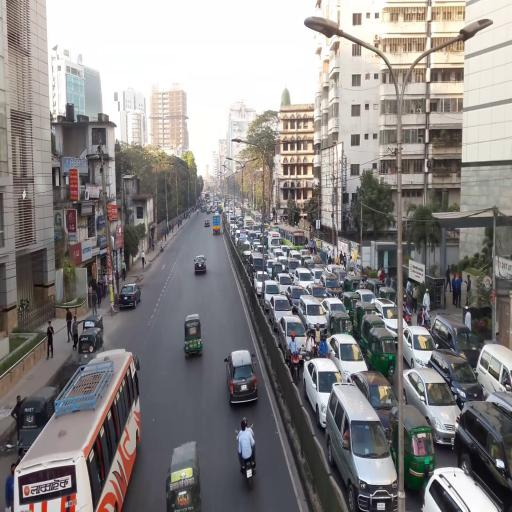bus: (49, 349, 142, 512), (278, 225, 307, 251), (252, 210, 263, 225)
car: (404, 368, 462, 447), (349, 370, 399, 438), (422, 467, 499, 511), (430, 348, 485, 408), (304, 359, 346, 432), (327, 333, 370, 383), (226, 349, 259, 407), (373, 298, 410, 343), (404, 326, 439, 371), (278, 315, 310, 363), (270, 294, 295, 331), (322, 297, 351, 320), (320, 273, 343, 300), (263, 281, 283, 312), (287, 286, 308, 314), (120, 284, 142, 307), (276, 273, 295, 296), (255, 272, 272, 296), (295, 269, 315, 288), (356, 289, 377, 303), (311, 255, 325, 272), (312, 269, 326, 284), (195, 256, 207, 273), (325, 265, 342, 276), (290, 250, 303, 264), (274, 248, 286, 262), (278, 257, 289, 272), (232, 226, 240, 239), (205, 218, 210, 229), (207, 208, 211, 214), (216, 211, 220, 215)
minivan: (326, 382, 399, 483), (477, 343, 512, 399), (299, 295, 328, 335), (242, 240, 252, 263)
motorbike: (236, 416, 256, 490), (286, 331, 303, 382), (304, 329, 316, 379), (315, 323, 323, 357), (320, 332, 330, 359)
pickup: (269, 232, 283, 250), (213, 215, 222, 236), (245, 216, 253, 229), (231, 215, 237, 224)
suv: (455, 403, 512, 505), (432, 313, 482, 369), (286, 258, 302, 278), (236, 230, 240, 248)
three wheelers (CNG): (389, 407, 436, 494), (165, 439, 204, 512), (19, 382, 60, 450), (368, 330, 397, 385), (362, 314, 386, 355), (79, 328, 104, 366), (355, 301, 378, 335), (185, 315, 203, 358), (328, 311, 354, 336), (343, 290, 361, 322), (366, 278, 385, 298), (344, 276, 363, 295), (84, 316, 106, 331), (379, 287, 398, 303), (344, 277, 361, 290), (335, 269, 348, 286), (273, 262, 284, 281), (302, 255, 312, 268), (305, 260, 316, 271), (261, 235, 268, 246)
van: (250, 253, 268, 285), (248, 230, 258, 247)
